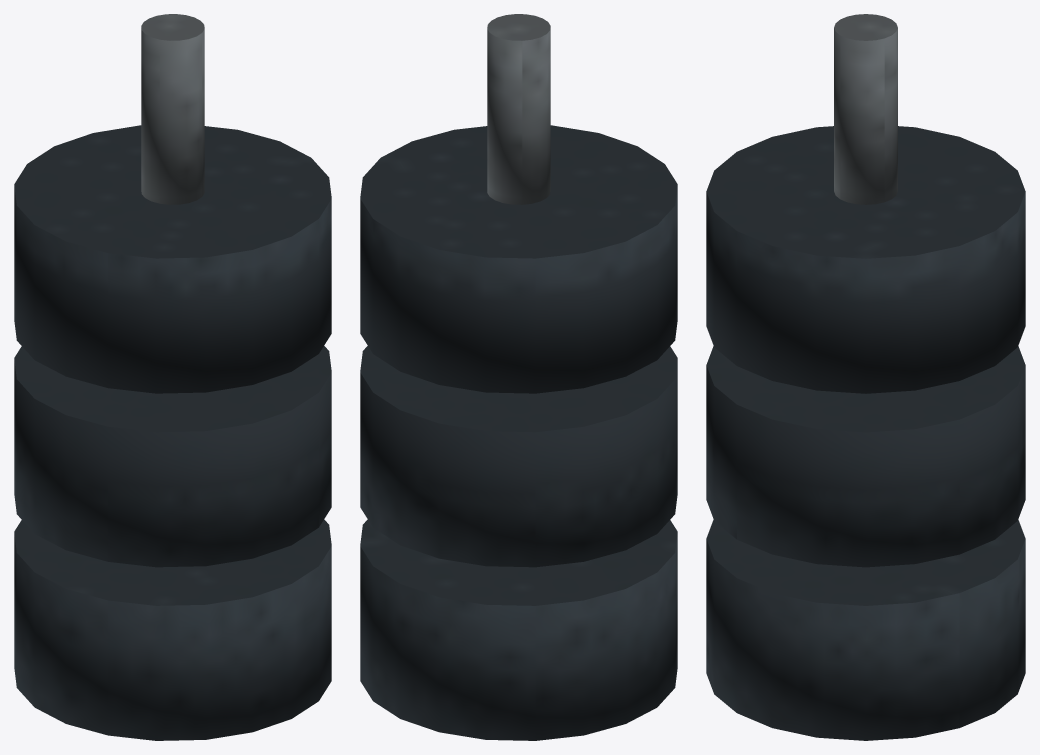
File: 6_weightL.obj
The picture shows the model from 3 angles, left to right: view 1: azimuth 30°, elevation 25°; view 2: azimuth 150°, elevation 25°; view 3: azimuth 270°, elevation 25°; orthographic projection.
Size of the model in its own units: 0.15 by 0.335 by 0.15.
1 material, 1 textured.
